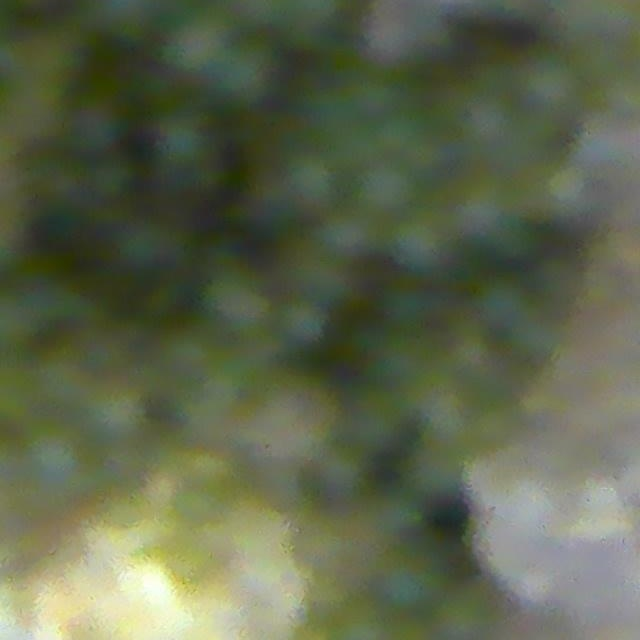SeaGrape: (20, 421, 95, 497), (207, 35, 282, 111), (149, 111, 221, 186), (378, 546, 448, 615), (388, 209, 451, 274), (317, 205, 381, 263), (357, 158, 416, 215)
